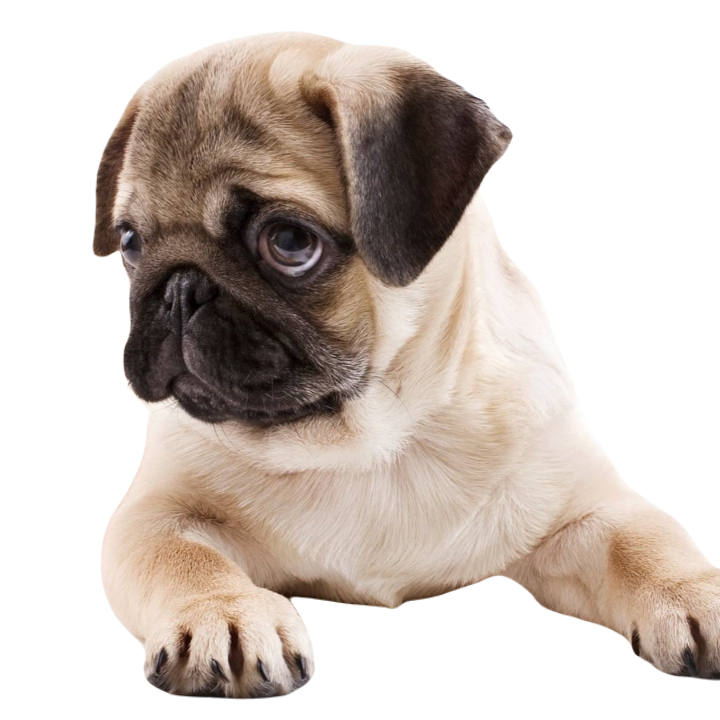Dog: (66, 28, 719, 697)
